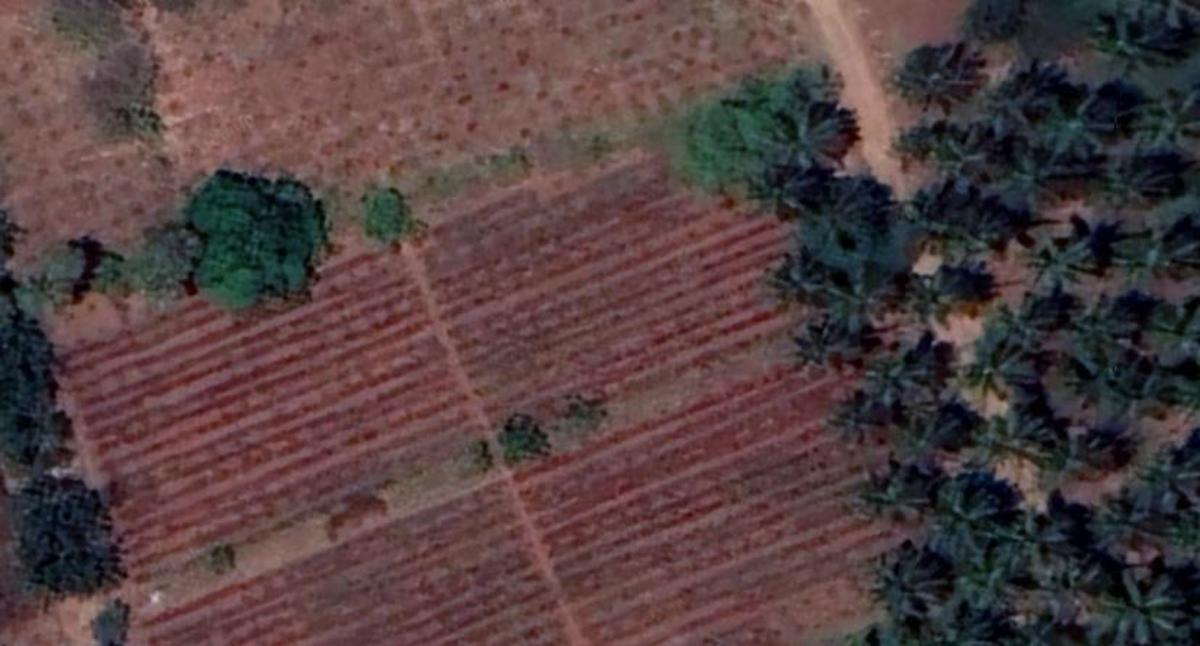coconut: (1085, 569, 1192, 641), (888, 251, 983, 332), (960, 310, 1041, 400), (903, 37, 985, 117), (774, 101, 859, 178), (1081, 4, 1170, 76), (928, 477, 999, 566), (973, 405, 1057, 480), (1043, 72, 1123, 150), (933, 105, 1002, 195), (1062, 296, 1144, 367), (1086, 486, 1166, 558), (1067, 354, 1156, 418), (803, 188, 877, 262), (991, 149, 1076, 213), (1114, 220, 1200, 281), (999, 505, 1075, 574), (867, 554, 944, 621), (1133, 71, 1194, 153), (1137, 439, 1200, 518), (1022, 225, 1092, 287), (828, 265, 899, 326), (1144, 287, 1198, 364), (821, 389, 889, 444), (899, 409, 960, 470), (861, 349, 930, 402), (764, 256, 829, 310), (1101, 155, 1163, 209), (866, 476, 930, 528), (922, 603, 1001, 641), (790, 320, 838, 368)
